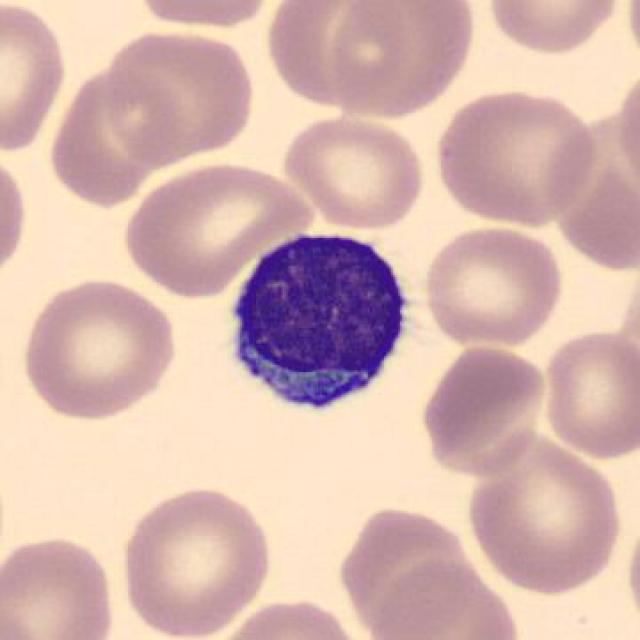RBC: (460, 428, 628, 602), (117, 157, 315, 298), (114, 481, 277, 640), (14, 273, 183, 423), (430, 84, 599, 228), (100, 25, 260, 164), (420, 222, 567, 351), (324, 2, 480, 122), (418, 340, 549, 478), (279, 113, 429, 231), (539, 326, 638, 462), (0, 530, 121, 640), (366, 556, 523, 638), (2, 0, 71, 159), (480, 0, 626, 58), (213, 594, 364, 638), (128, 0, 279, 33), (615, 60, 640, 208)
